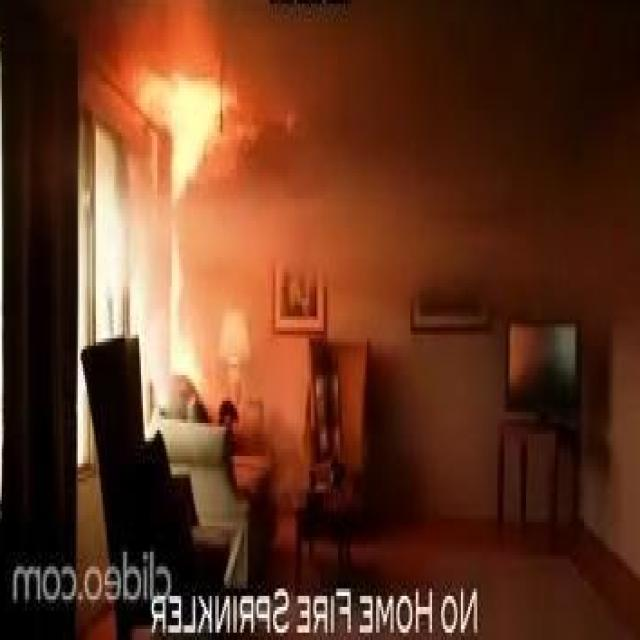smoke: (172, 76, 238, 200), (168, 232, 201, 376)
